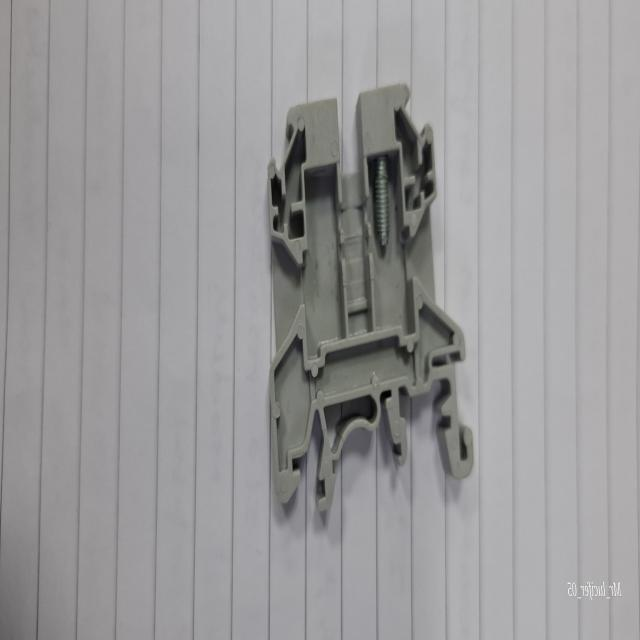Reject: (263, 76, 477, 521)
